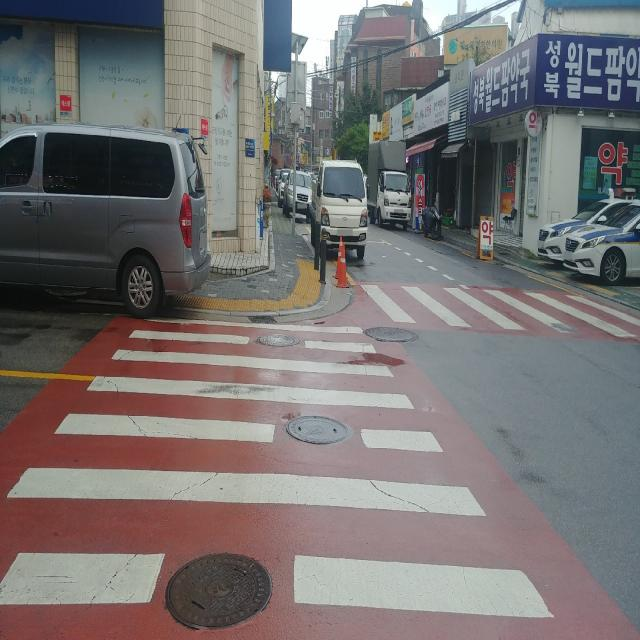횡단보도: (0, 318, 555, 620), (368, 276, 640, 334)
